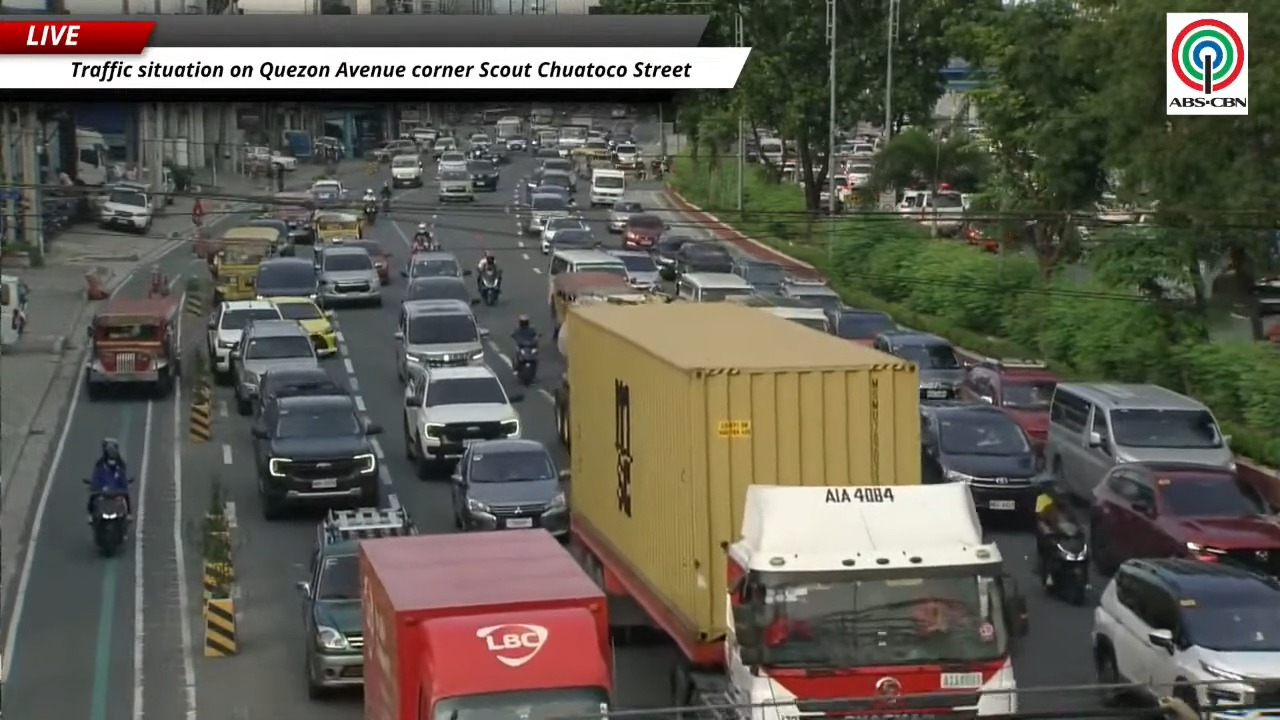car: (1092, 558, 1279, 717), (298, 507, 415, 698), (1044, 383, 1235, 499), (1090, 462, 1279, 574), (251, 396, 381, 519), (920, 400, 1042, 523), (404, 364, 523, 478), (451, 438, 568, 536), (961, 358, 1058, 447), (231, 319, 319, 415), (395, 299, 485, 380), (872, 328, 965, 399), (206, 300, 281, 382), (253, 367, 350, 415), (315, 244, 380, 305), (270, 297, 337, 356), (828, 307, 897, 346), (254, 257, 318, 299), (757, 296, 828, 333), (99, 185, 152, 233), (270, 191, 316, 245), (654, 233, 704, 280), (238, 215, 295, 256), (343, 239, 391, 285), (672, 242, 732, 278), (403, 276, 478, 304), (608, 250, 660, 290), (517, 194, 569, 234), (401, 251, 470, 279), (732, 257, 786, 292), (540, 216, 589, 254), (778, 282, 843, 309), (622, 213, 667, 250), (532, 157, 578, 185), (438, 168, 474, 202), (608, 201, 644, 232), (528, 185, 575, 208), (391, 152, 422, 186), (552, 228, 601, 249), (467, 159, 499, 191), (372, 140, 418, 162), (309, 179, 346, 206), (536, 171, 575, 194), (612, 143, 642, 168), (431, 136, 460, 160), (437, 151, 467, 174), (846, 164, 873, 189), (534, 143, 560, 160), (504, 136, 528, 151), (468, 132, 491, 146), (610, 105, 629, 119)
motorcycle: (1036, 523, 1089, 605), (92, 493, 128, 556), (513, 345, 538, 385), (479, 272, 500, 305), (363, 203, 377, 224), (381, 196, 391, 213)
truck: (562, 303, 1024, 719), (359, 529, 613, 719), (557, 123, 589, 156), (495, 116, 524, 139)
